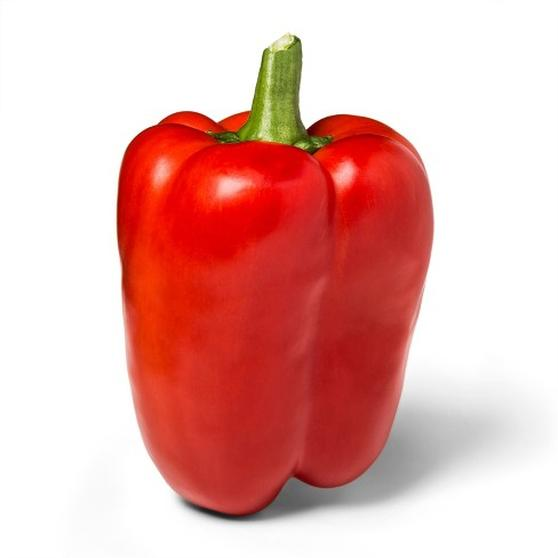pepper: (120, 81, 433, 520)
